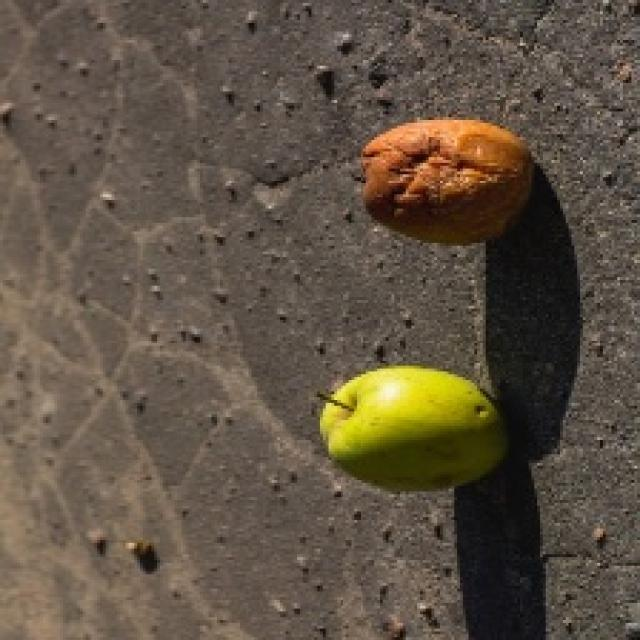50-_ripeness: (318, 365, 510, 491)
rotten_apple: (364, 124, 528, 236)
